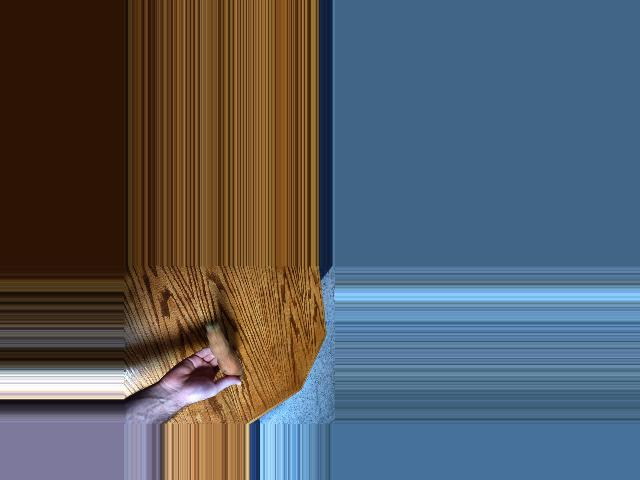sweet_potato: (202, 322, 242, 382)
